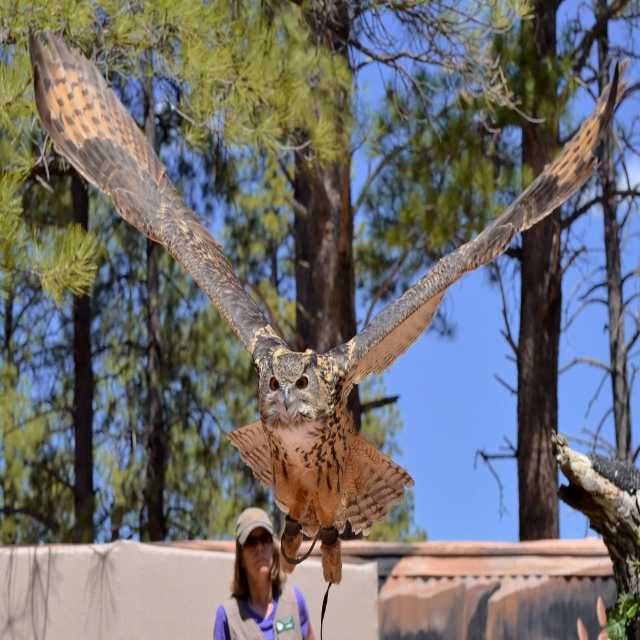Owl: (26, 25, 630, 590)
